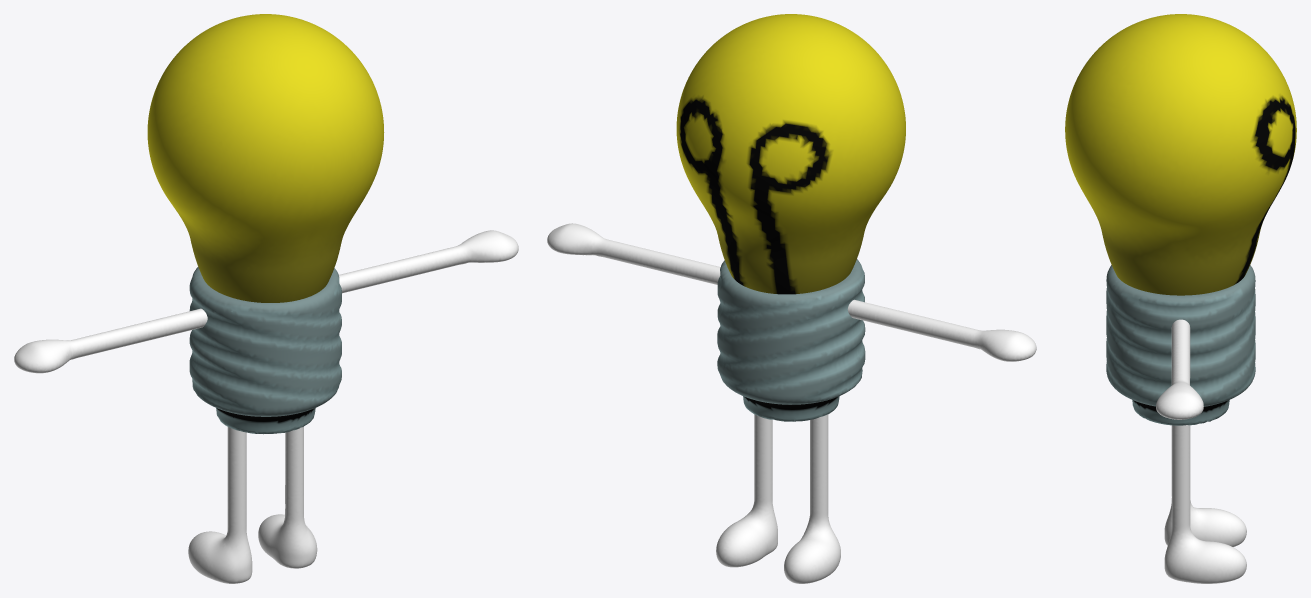
Rendered from Bulby.fbx.
The picture shows the model from 3 angles, left to right: view 1: azimuth 30°, elevation 25°; view 2: azimuth 150°, elevation 25°; view 3: azimuth 270°, elevation 25°; orthographic projection. The views are drawn at different scales.
Visible parts, largest first — view 1: Head, Bottom, Legs, Arms; view 2: Head, Bottom, Legs, Arms; view 3: Head, Bottom, Legs, Arms.
Part boxes in pixels (<box>): Head: <box>147,14,384,302</box>; Bottom: <box>189,267,341,434</box>; Legs: <box>188,426,317,583</box>; Arms: <box>14,230,518,373</box>; Head: <box>676,14,905,294</box>; Bottom: <box>717,259,865,421</box>; Legs: <box>716,414,840,583</box>; Arms: <box>547,223,1036,361</box>; Head: <box>1065,14,1296,295</box>; Bottom: <box>1106,265,1255,425</box>; Legs: <box>1164,425,1246,583</box>; Arms: <box>1156,319,1203,419</box>.
Bounding box in the file's own units: 456 × 479 × 188.
